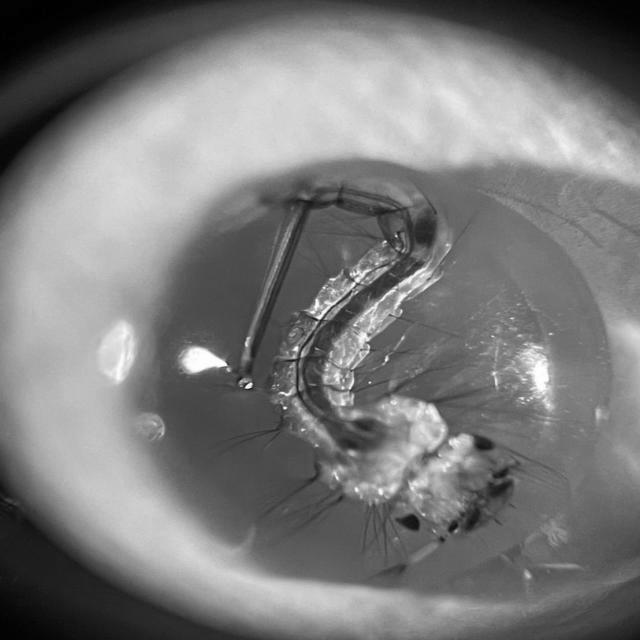larvas: (235, 168, 518, 542)
